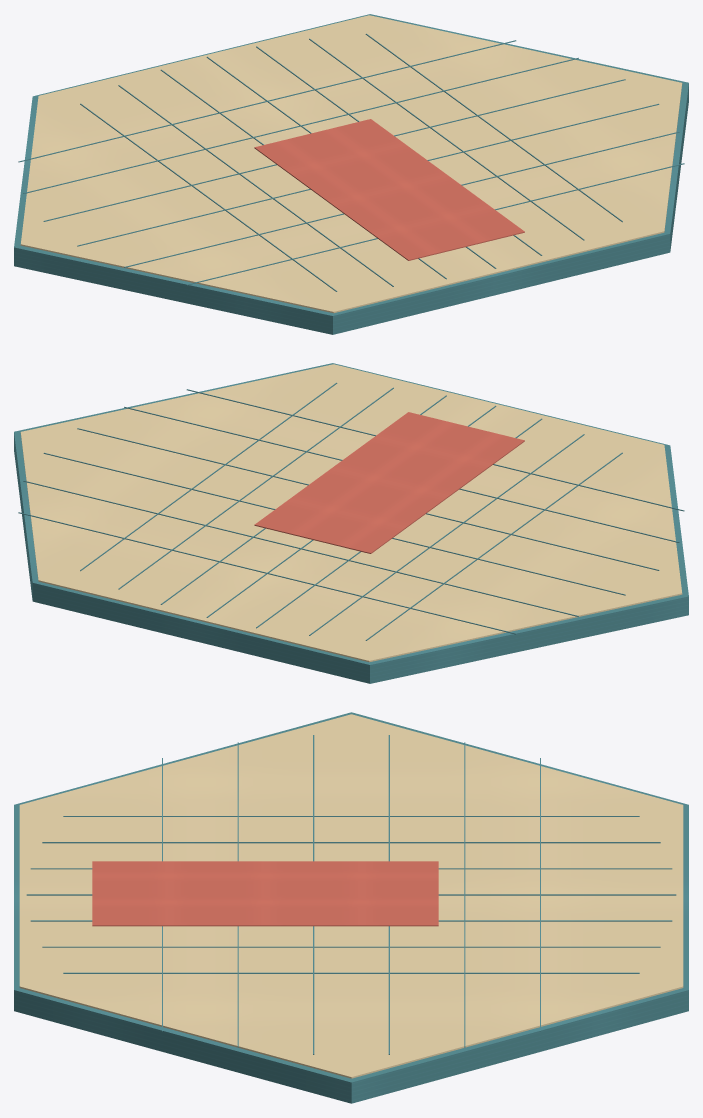
Rendered from atlas100-s072-a07.lod2.glb.
The picture shows the model from 3 angles, top to bottom: view 1: azimuth 30°, elevation 25°; view 2: azimuth 150°, elevation 25°; view 3: azimuth 270°, elevation 25°; orthographic projection. The views are drawn at different scales.
Visible parts, largest first — view 1: atlas100-s072-a07:part-001, atlas100-s072-a07:part-000, atlas100-s072-a07:part-021, atlas100-s072-a07:part-015, atlas100-s072-a07:part-014, atlas100-s072-a07:part-016, atlas100-s072-a07:part-017, atlas100-s072-a07:part-018, atlas100-s072-a07:part-019, atlas100-s072-a07:part-009, atlas100-s072-a07:part-005, atlas100-s072-a07:part-010 (+1 smaller); view 2: atlas100-s072-a07:part-001, atlas100-s072-a07:part-000, atlas100-s072-a07:part-021, atlas100-s072-a07:part-015, atlas100-s072-a07:part-014, atlas100-s072-a07:part-017, atlas100-s072-a07:part-016, atlas100-s072-a07:part-018, atlas100-s072-a07:part-019, atlas100-s072-a07:part-009, atlas100-s072-a07:part-005, atlas100-s072-a07:part-004 (+1 smaller); view 3: atlas100-s072-a07:part-001, atlas100-s072-a07:part-021, atlas100-s072-a07:part-000, atlas100-s072-a07:part-009, atlas100-s072-a07:part-005, atlas100-s072-a07:part-010, atlas100-s072-a07:part-015, atlas100-s072-a07:part-007, atlas100-s072-a07:part-008.
Part boxes in pixels (left/top/right/bottom): atlas100-s072-a07:part-001: left=20, top=15, right=682, bottom=313; atlas100-s072-a07:part-000: left=14, top=14, right=688, bottom=334; atlas100-s072-a07:part-021: left=254, top=119, right=524, bottom=260; atlas100-s072-a07:part-015: left=23, top=57, right=578, bottom=193; atlas100-s072-a07:part-014: left=18, top=40, right=516, bottom=162; atlas100-s072-a07:part-016: left=43, top=79, right=625, bottom=221; atlas100-s072-a07:part-017: left=77, top=103, right=659, bottom=246; atlas100-s072-a07:part-018: left=124, top=131, right=679, bottom=267; atlas100-s072-a07:part-019: left=187, top=163, right=684, bottom=285; atlas100-s072-a07:part-009: left=309, top=38, right=584, bottom=240; atlas100-s072-a07:part-005: left=118, top=85, right=393, bottom=286; atlas100-s072-a07:part-010: left=365, top=33, right=622, bottom=222; atlas100-s072-a07:part-001: left=20, top=364, right=682, bottom=662; atlas100-s072-a07:part-000: left=14, top=363, right=688, bottom=683; atlas100-s072-a07:part-021: left=254, top=412, right=524, bottom=553; atlas100-s072-a07:part-015: left=23, top=480, right=578, bottom=616; atlas100-s072-a07:part-014: left=18, top=512, right=515, bottom=634; atlas100-s072-a07:part-017: left=77, top=428, right=659, bottom=570; atlas100-s072-a07:part-016: left=43, top=452, right=625, bottom=595; atlas100-s072-a07:part-018: left=124, top=406, right=679, bottom=542; atlas100-s072-a07:part-019: left=186, top=389, right=684, bottom=511; atlas100-s072-a07:part-009: left=118, top=387, right=393, bottom=589; atlas100-s072-a07:part-005: left=309, top=434, right=584, bottom=635; atlas100-s072-a07:part-004: left=365, top=452, right=622, bottom=640; atlas100-s072-a07:part-001: left=19, top=714, right=683, bottom=1078; atlas100-s072-a07:part-021: left=92, top=861, right=438, bottom=926; atlas100-s072-a07:part-000: left=14, top=712, right=688, bottom=1103; atlas100-s072-a07:part-009: left=42, top=946, right=660, bottom=947; atlas100-s072-a07:part-005: left=42, top=842, right=660, bottom=843; atlas100-s072-a07:part-010: left=63, top=972, right=639, bottom=973; atlas100-s072-a07:part-015: left=464, top=742, right=465, bottom=1047; atlas100-s072-a07:part-007: left=26, top=894, right=676, bottom=895; atlas100-s072-a07:part-008: left=30, top=920, right=672, bottom=921.
Bounding box in the file's own units: 12.75 × 0.404 × 9.82.
Materials: 3 (3 with a texture image).
